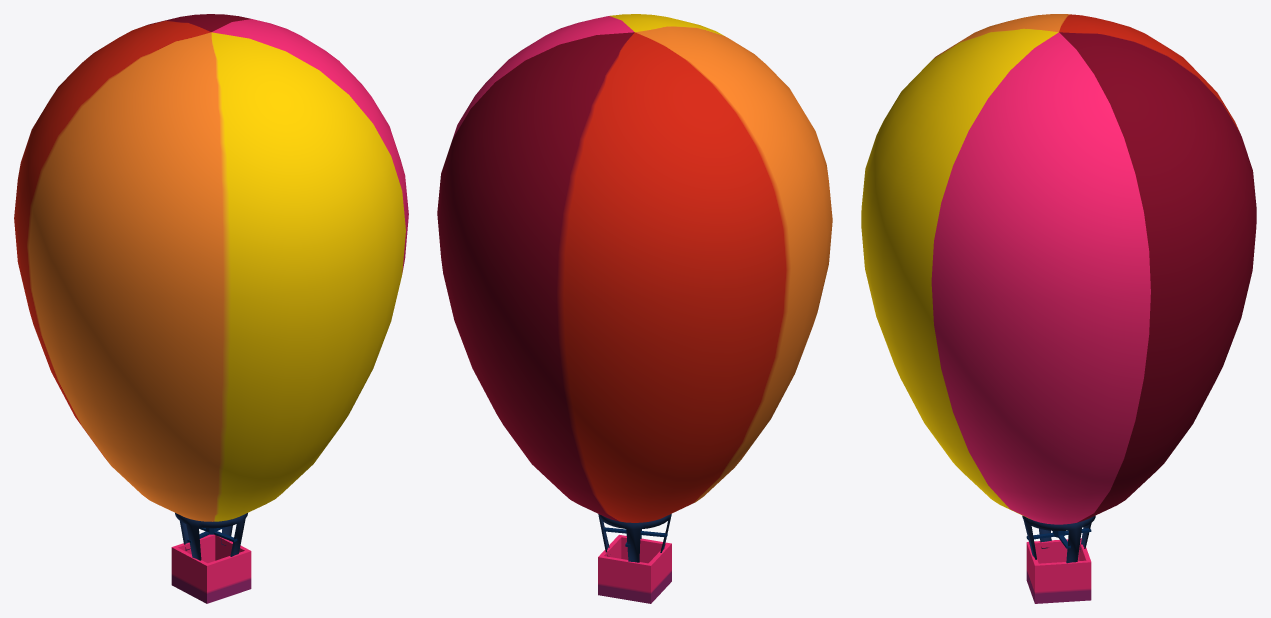
The model's file is balloon.glb.
3 renders of one model, left to right at view 1: azimuth 30°, elevation 25°; view 2: azimuth 150°, elevation 25°; view 3: azimuth 270°, elevation 25°, orthographic.
Visible parts, largest first — view 1: Balloon, Cabin; view 2: Balloon, Cabin; view 3: Balloon, Cabin.
Boxes of the visible parts, x1,y1,x2,y2 form: Balloon: [14, 14, 408, 560]; Cabin: [171, 534, 251, 603]; Balloon: [437, 14, 832, 562]; Cabin: [598, 534, 671, 603]; Balloon: [861, 14, 1256, 563]; Cabin: [1026, 538, 1091, 603].
Bounding box in the file's own units: 19.92 × 31 × 19.92.
Materials: 1 (1 with a texture image).
